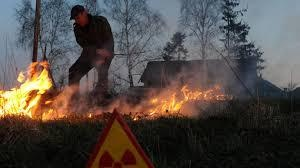fire: (0, 59, 54, 119), (144, 80, 225, 114)
